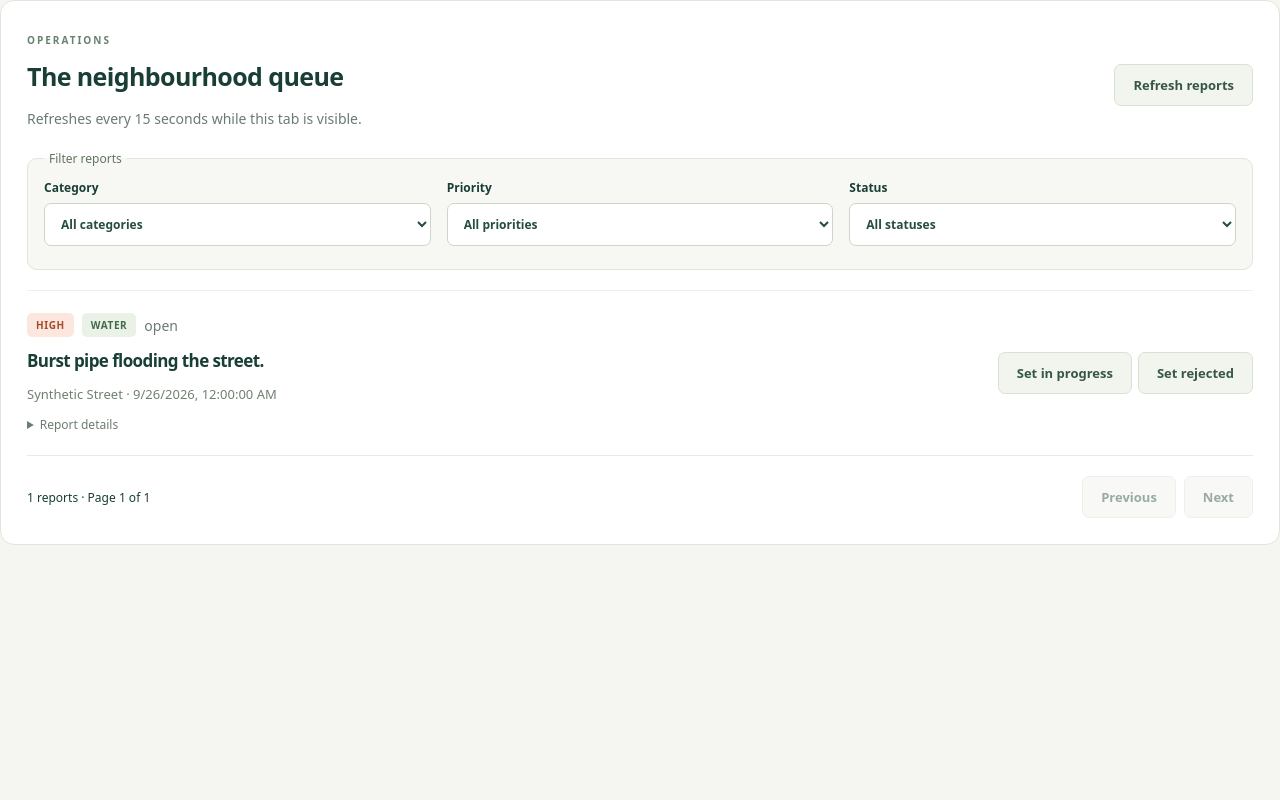
Scenario: operations dashboard › displays the exact server 409 message and keeps the record unchanged
This screenshot has width=1280, height=800.
What coordinates should you click on to do the following:
click the button "Set in progress"
I would click on:
 (1065, 373)
Its box is left=998, top=352, right=1132, bottom=394.
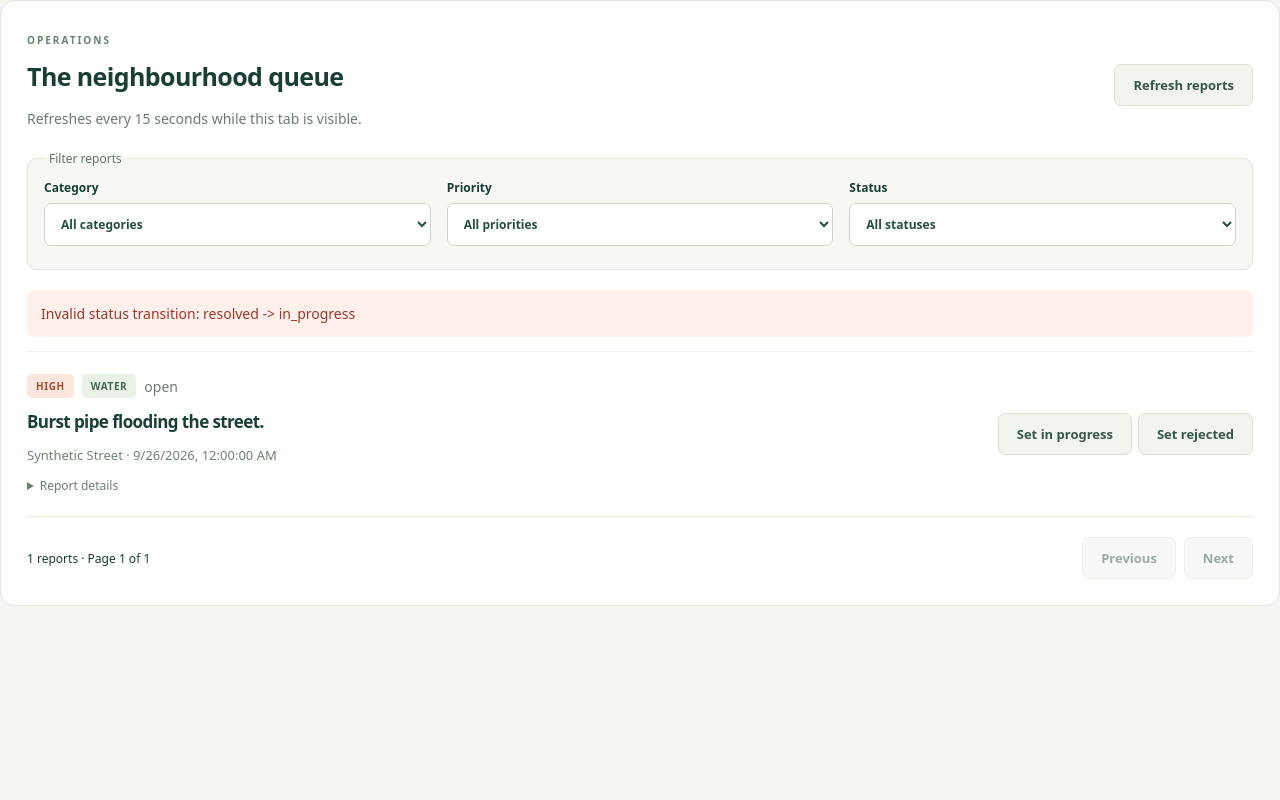
Expected: the button "Set in progress" is enabled, left=998, top=413, right=1132, bottom=455
Expected: the message reads "Invalid status transition: resolved -> in_progress", left=41, top=304, right=355, bottom=323
